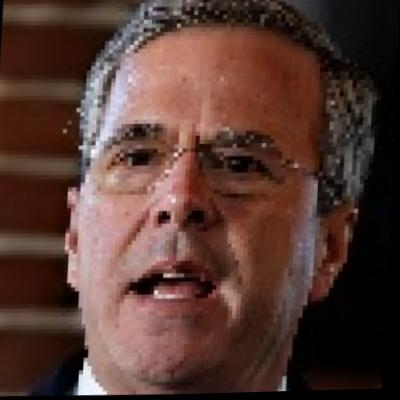angry: (74, 32, 329, 384)
